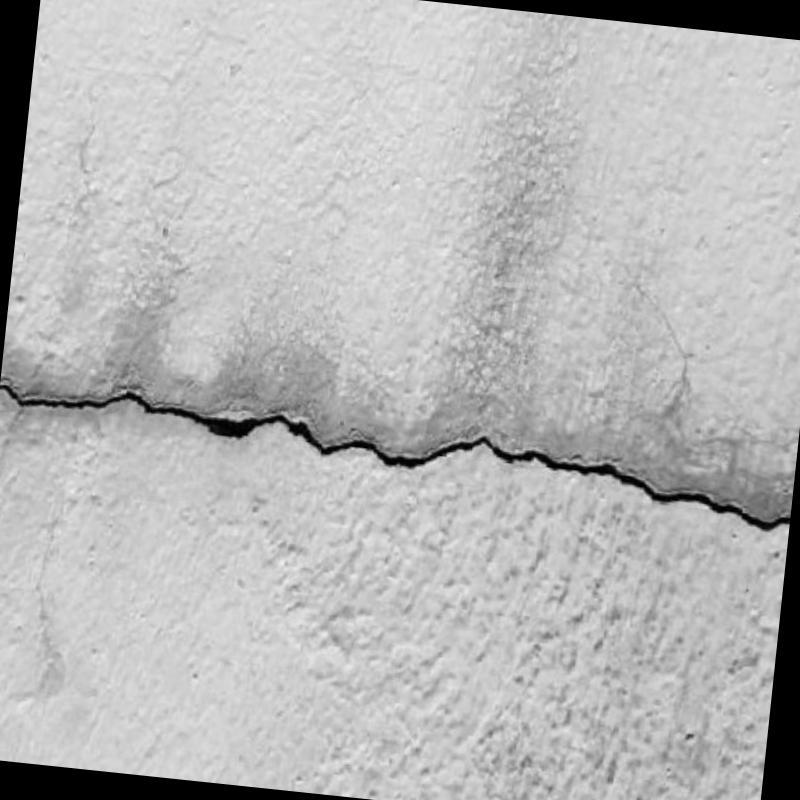crack: (0, 383, 790, 532)
